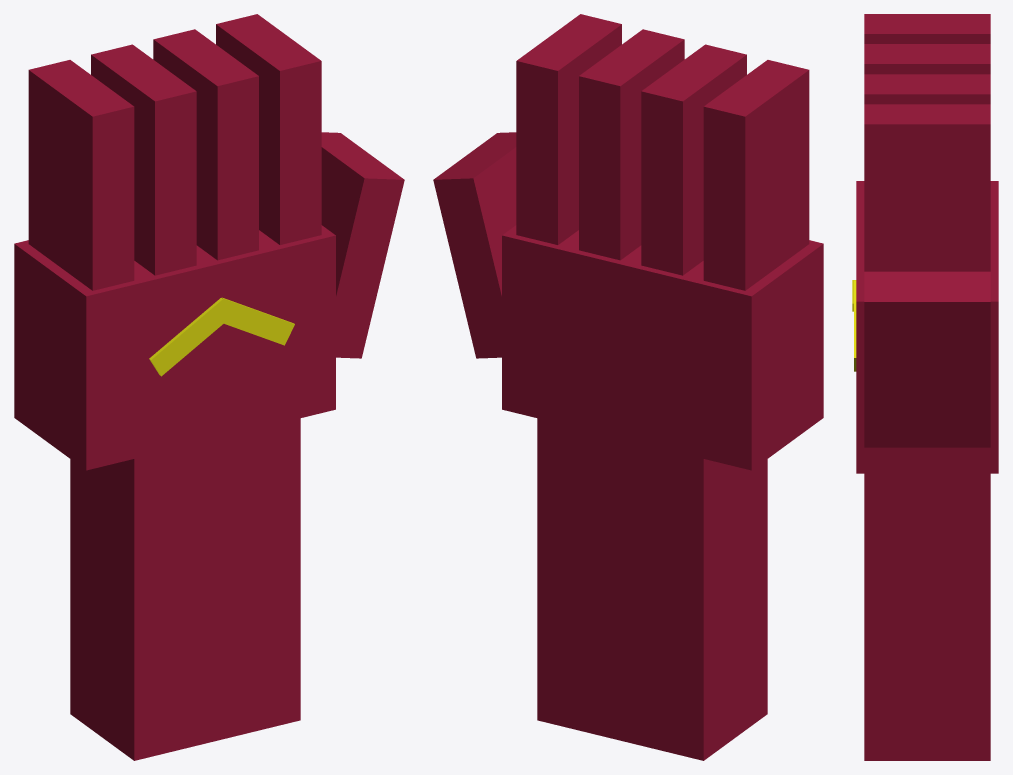
File: DaemonRightArm.fbx
The picture shows the model from 3 angles, left to right: view 1: azimuth 30°, elevation 25°; view 2: azimuth 150°, elevation 25°; view 3: azimuth 270°, elevation 25°; orthographic projection.
Visible parts, largest first — view 1: Cube.002, Cube.008; view 2: Cube.002; view 3: Cube.002, Cube.008.
Boxes of the visible parts, x1,y1,x2,y2 form: Cube.002: [14, 14, 404, 760]; Cube.008: [149, 297, 294, 376]; Cube.002: [433, 14, 823, 760]; Cube.002: [856, 14, 998, 760]; Cube.008: [852, 280, 856, 371].
Bounding box in the file's own units: 93.01 × 180 × 37.
